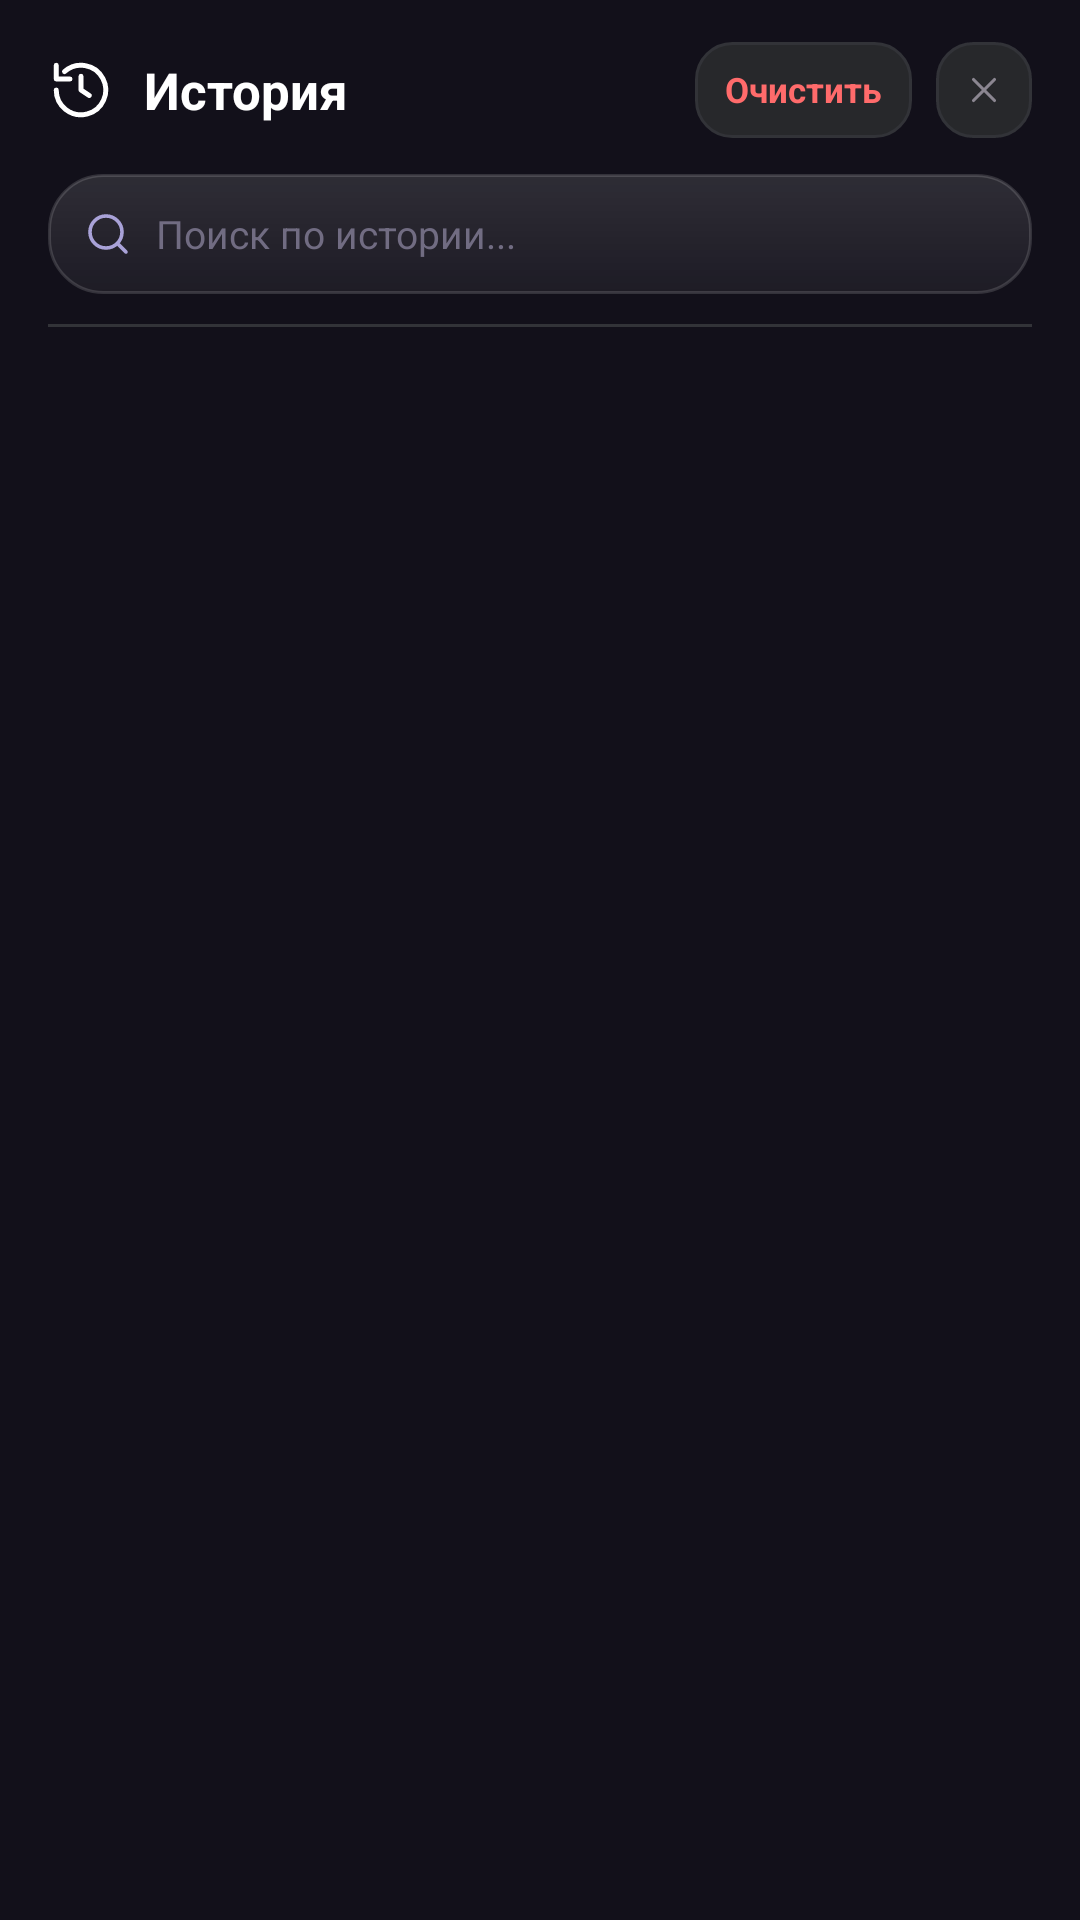

Point at icon controls on the screen. Image size 1080 × 1920, points as [x,y].
close: [984,90]
history: [81,90]
search: [108,234]
